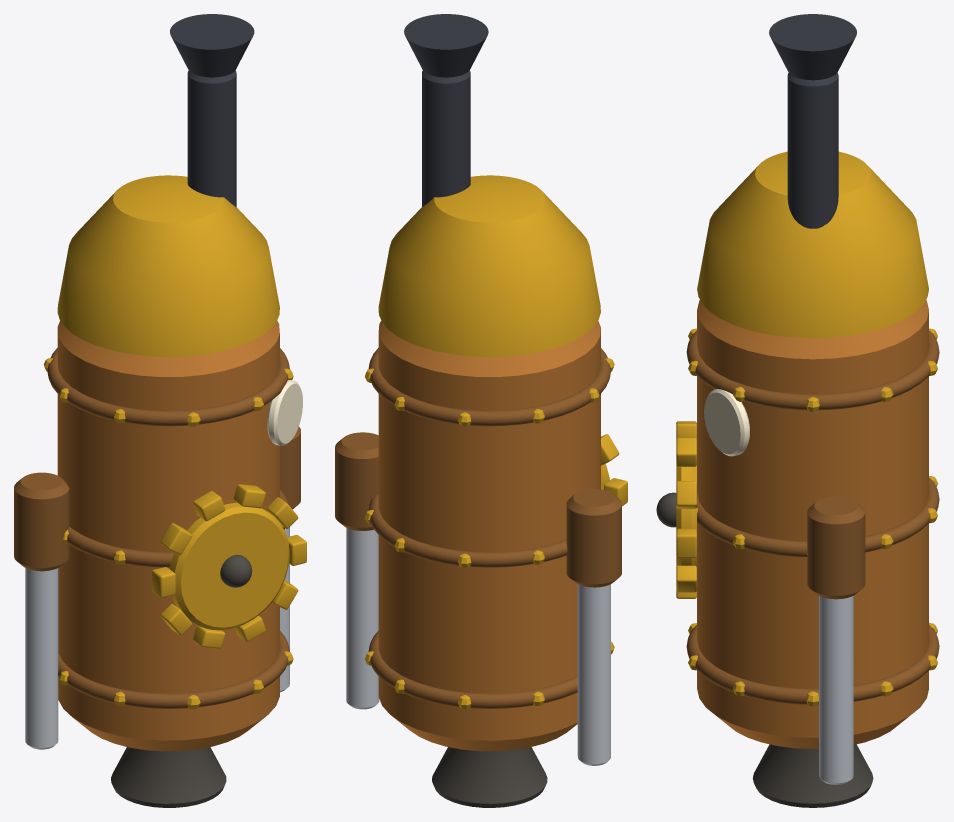
File: Rocket_21_Steampunk.fbx
3 views of the same model, side by side, from view 1: azimuth 30°, elevation 25°; view 2: azimuth 150°, elevation 25°; view 3: azimuth 270°, elevation 25° (orthographic). The views are drawn at different scales.
Visible parts, largest first — view 1: R21_Boiler, R21_Dome, R21_Gear, R21_Chimney, R21_Piston_2, R21_Nozzle, R21_PistonHousing_2, R21_ChimneyTop, R21_RivetBand_3, R21_RivetBand, R21_Gauge, R21_RivetBand_2 (+10 smaller); view 2: R21_Boiler, R21_Dome, R21_Piston_2, R21_Chimney, R21_Nozzle, R21_Piston, R21_PistonHousing_2, R21_ChimneyTop, R21_RivetBand_3, R21_PistonHousing, R21_RivetBand, R21_RivetBand_2; view 3: R21_Boiler, R21_Dome, R21_Chimney, R21_Piston, R21_PistonHousing, R21_Nozzle, R21_ChimneyTop, R21_RivetBand_3, R21_RivetBand, R21_RivetBand_2, R21_Gauge, R21_Gear (+5 smaller).
Part boxes in pixels (x1=…): R21_Boiler: x1=57, y1=320, x2=279, y2=751; R21_Dome: x1=57, y1=175, x2=279, y2=356; R21_Gear: x1=170, y1=502, x2=289, y2=630; R21_Chimney: x1=187, y1=70, x2=236, y2=207; R21_Piston_2: x1=25, y1=568, x2=58, y2=749; R21_Nozzle: x1=111, y1=747, x2=226, y2=807; R21_PistonHousing_2: x1=14, y1=472, x2=69, y2=571; R21_ChimneyTop: x1=170, y1=14, x2=254, y2=77; R21_RivetBand_3: x1=47, y1=348, x2=289, y2=426; R21_RivetBand: x1=58, y1=631, x2=289, y2=708; R21_Gauge: x1=267, y1=380, x2=302, y2=445; R21_RivetBand_2: x1=67, y1=489, x2=288, y2=567; R21_Boiler: x1=378, y1=320, x2=600, y2=751; R21_Dome: x1=378, y1=175, x2=600, y2=356; R21_Piston_2: x1=577, y1=584, x2=610, y2=765; R21_Chimney: x1=422, y1=70, x2=470, y2=206; R21_Nozzle: x1=432, y1=747, x2=547, y2=807; R21_Piston: x1=346, y1=528, x2=379, y2=709; R21_PistonHousing_2: x1=566, y1=489, x2=621, y2=587; R21_ChimneyTop: x1=404, y1=14, x2=488, y2=77; R21_RivetBand_3: x1=368, y1=348, x2=610, y2=426; R21_PistonHousing: x1=335, y1=432, x2=378, y2=530; R21_RivetBand: x1=368, y1=631, x2=577, y2=708; R21_RivetBand_2: x1=368, y1=494, x2=567, y2=567; R21_Boiler: x1=697, y1=300, x2=928, y2=748; R21_Dome: x1=697, y1=151, x2=928, y2=338; R21_Chimney: x1=787, y1=73, x2=838, y2=228; R21_Piston: x1=819, y1=596, x2=853, y2=784; R21_PistonHousing: x1=807, y1=496, x2=865, y2=599; R21_Nozzle: x1=752, y1=744, x2=873, y2=807; R21_ChimneyTop: x1=769, y1=14, x2=856, y2=80; R21_RivetBand_3: x1=686, y1=330, x2=939, y2=410; R21_RivetBand: x1=686, y1=625, x2=939, y2=704; R21_RivetBand_2: x1=697, y1=478, x2=939, y2=557; R21_Gauge: x1=704, y1=389, x2=749, y2=456; R21_Gear: x1=676, y1=465, x2=696, y2=566.
Size of the model in its own units: 2.9 by 7.35 by 2.44.
